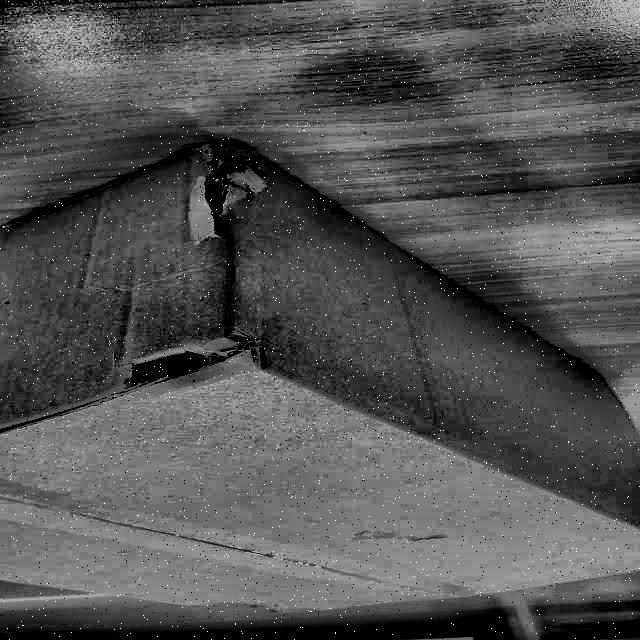box: (1, 123, 640, 622)
hole: (119, 332, 251, 398), (194, 132, 244, 235)
